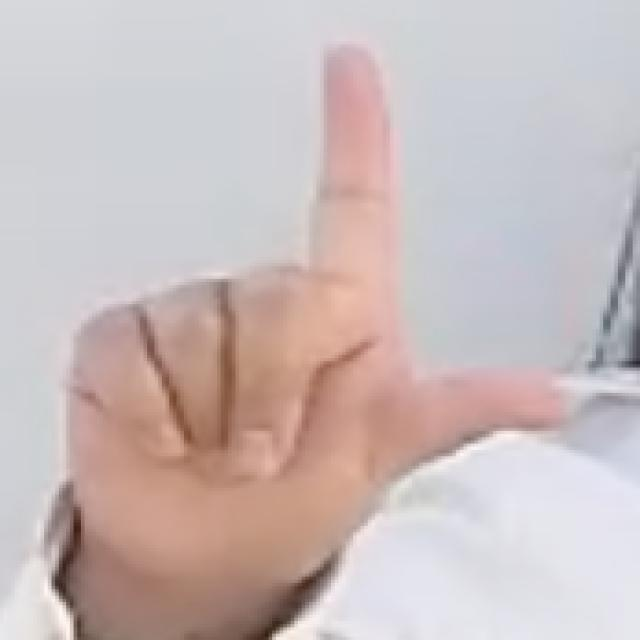LL: (55, 31, 578, 594)
